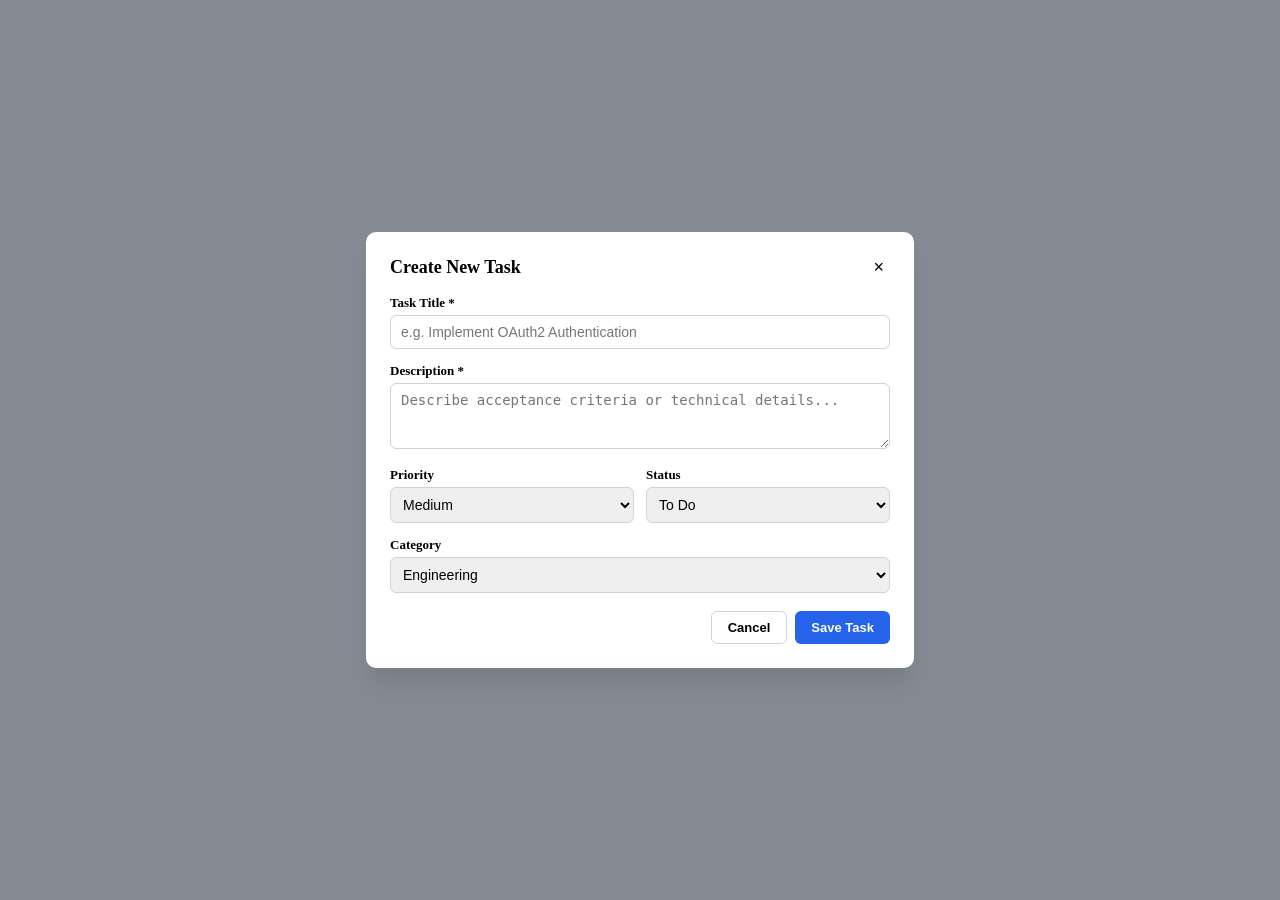
Test case: TaskModal Component › shows validation errors when submitted empty
The width and height of the screenshot is (1280, 900).
Click the button "Save Task" at [843, 628], box [795, 611, 890, 644]
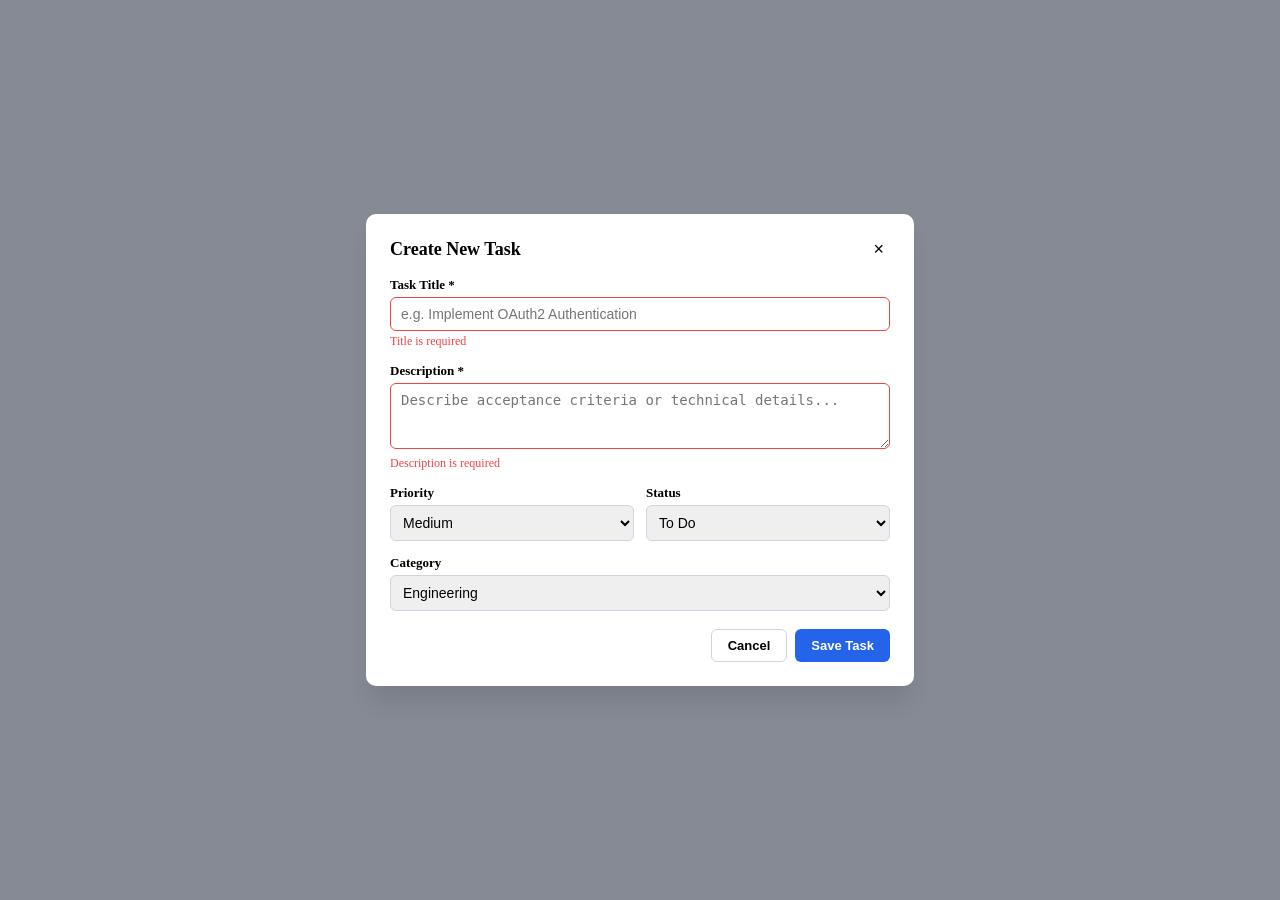
Check: the text "Title is required" is shown, box [390, 334, 466, 348]
Check: the text "Description is required" is shown, box [390, 456, 500, 470]
